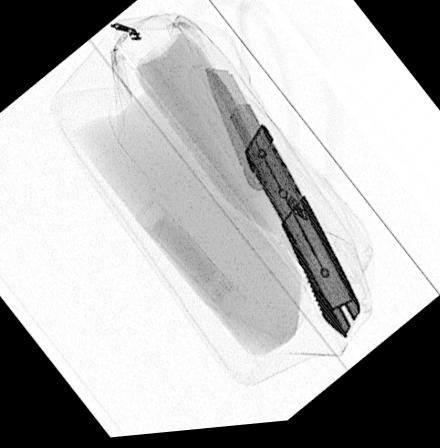Knife: (204, 72, 361, 345), (186, 68, 268, 199)
